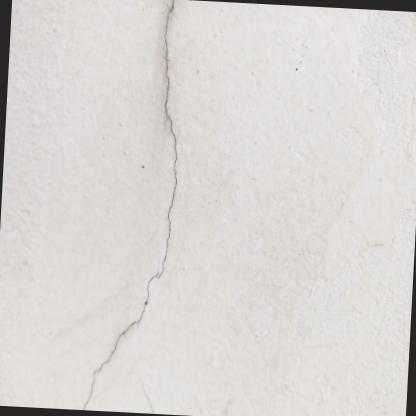crack: (78, 0, 176, 410)
